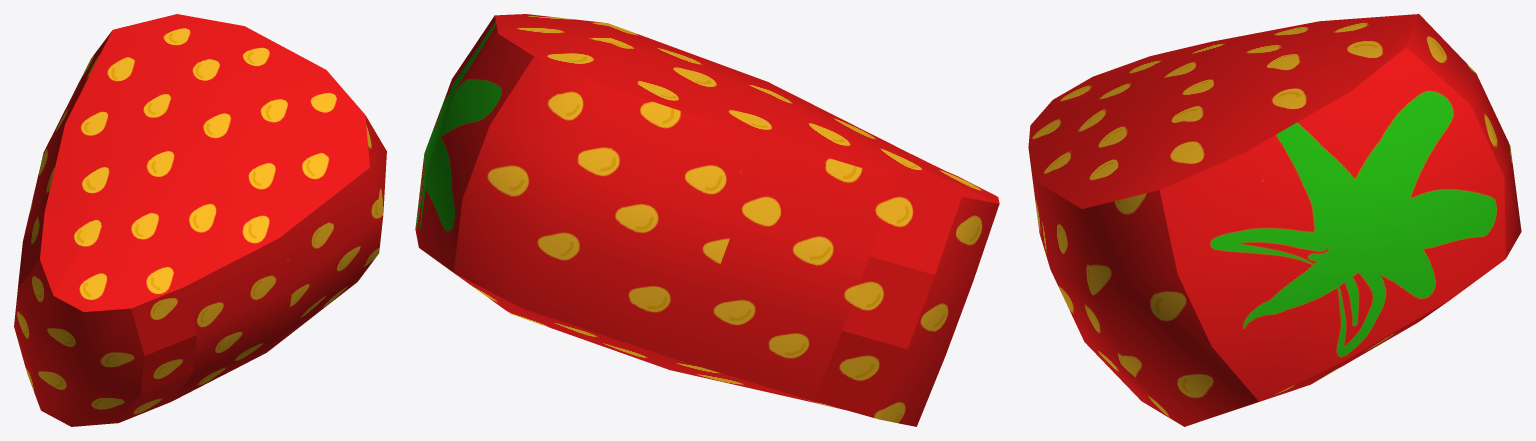
Rendered from Fresa.fbx.
3 views of the same model, side by side, from view 1: azimuth 30°, elevation 25°; view 2: azimuth 150°, elevation 25°; view 3: azimuth 270°, elevation 25° (orthographic). The views are drawn at different scales.
Parts seen in each view (by area): view 1: pasted__pCube6; view 2: pasted__pCube6; view 3: pasted__pCube6.
Part boxes in pixels (bbox=[...]): pasted__pCube6: bbox=[14, 14, 386, 426]; pasted__pCube6: bbox=[415, 14, 999, 426]; pasted__pCube6: bbox=[1028, 14, 1521, 426].
Size of the model in its own units: 7.78 by 5.91 by 6.57.
Materials: 1 (1 with a texture image).
